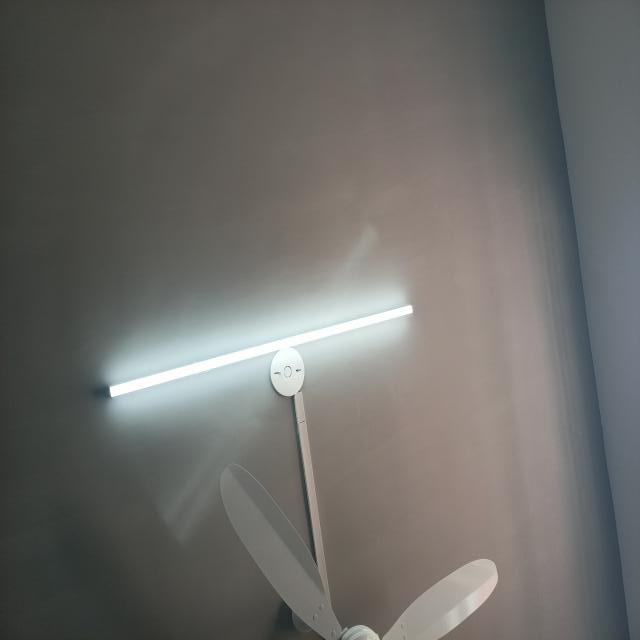fluorescent tube: (99, 299, 421, 403)
